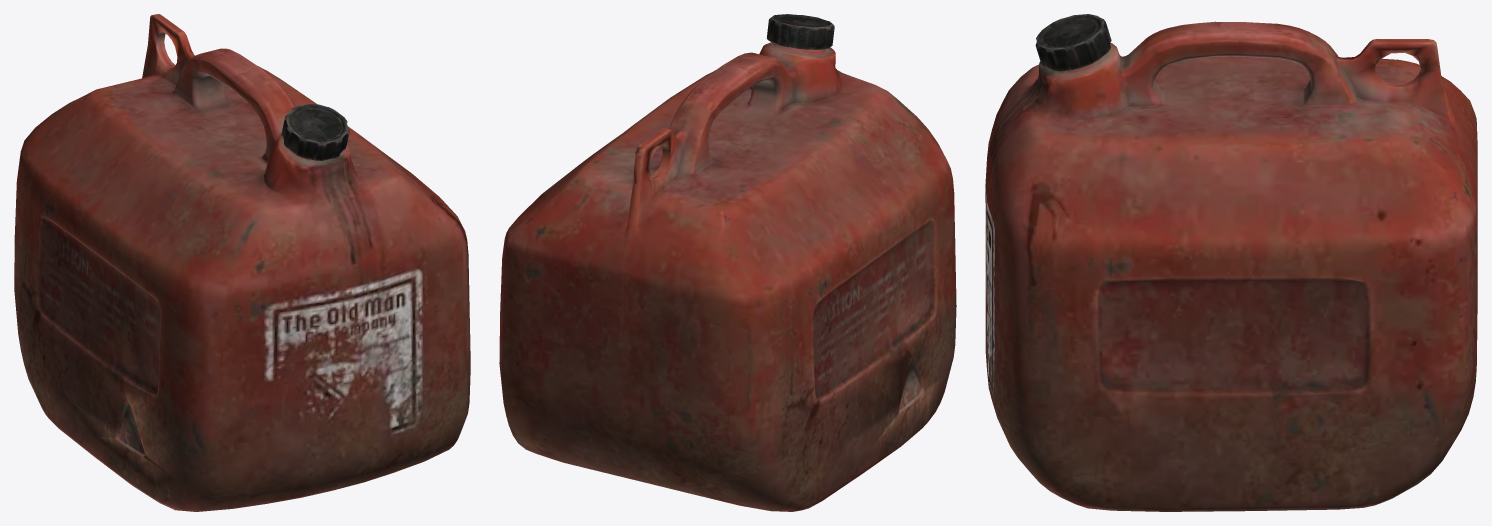
The model's file is jerrycanPlastic.glb.
3 renders of one model, left to right at view 1: azimuth 30°, elevation 25°; view 2: azimuth 150°, elevation 25°; view 3: azimuth 270°, elevation 25°, orthographic. The views are drawn at different scales.
Visible parts, largest first — view 1: plastic_jerrycan; view 2: plastic_jerrycan; view 3: plastic_jerrycan.
Part boxes in pixels (<box>): plastic_jerrycan: <box>14,14,470,511</box>; plastic_jerrycan: <box>499,14,956,511</box>; plastic_jerrycan: <box>985,14,1477,511</box>.
Size of the model in its own units: 0.2679 by 0.3184 by 0.3406.
1 material, 1 textured.
